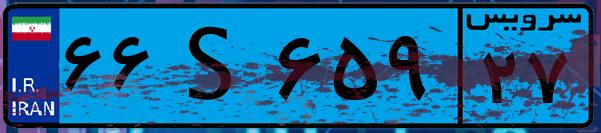2: (475, 38, 525, 113)
5: (330, 28, 385, 110)
6: (270, 28, 330, 110), (57, 26, 110, 100), (110, 28, 158, 98)
7: (525, 38, 570, 115)
9: (385, 28, 445, 110)
S: (158, 12, 270, 120)
